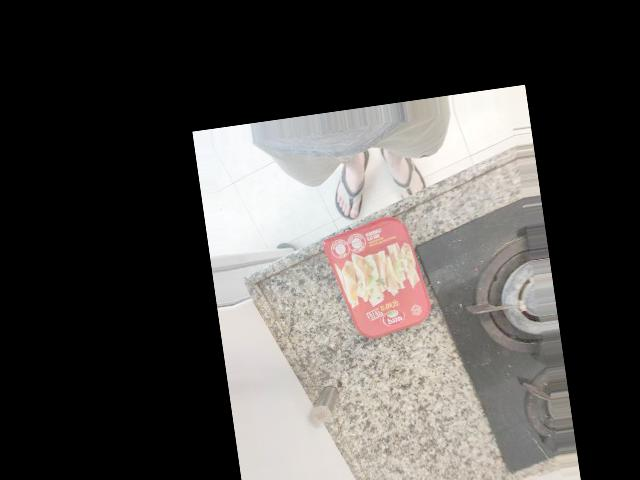cheese: (340, 306, 450, 425)
